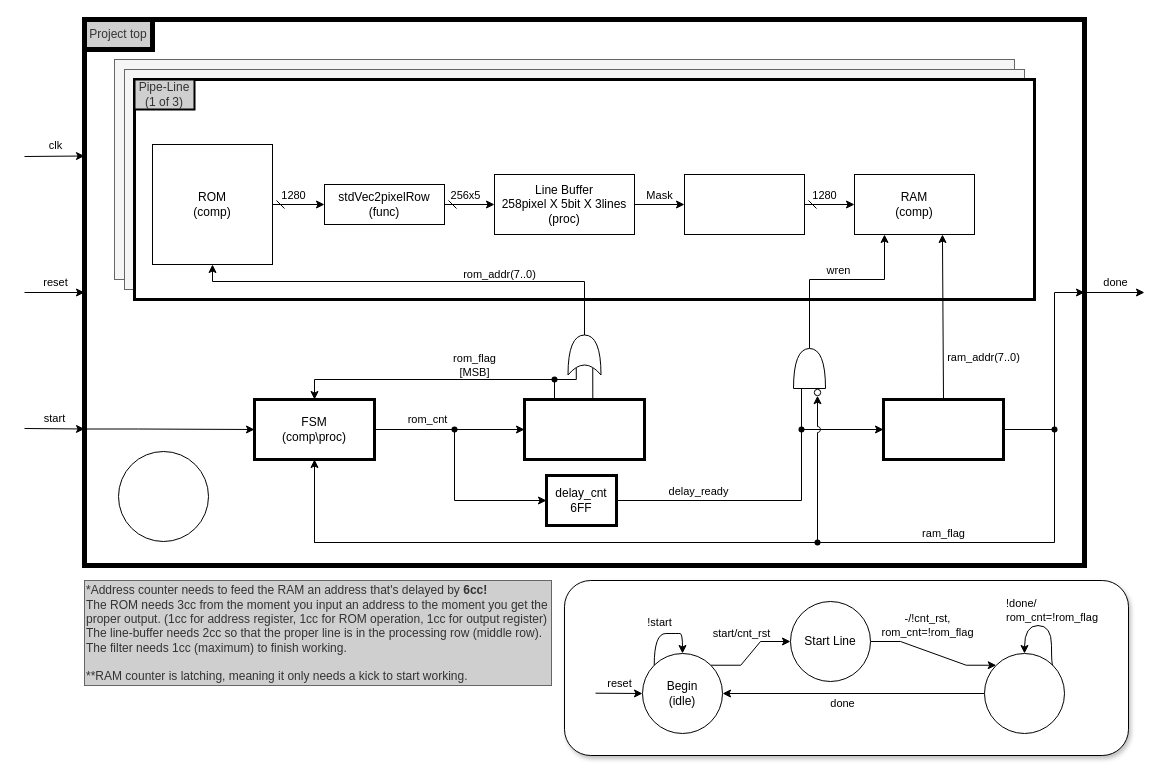
This 1170x780 diagram has some shape labels left out. Each missing label, with the centre of its shape:
"Constants, Types, Functions (package)" goes at pixel 163 496.
"Filter (func)" goes at pixel 744 204.
"RAM Address Counter [9 bits] (proc)" goes at pixel 943 429.
"ROM Address Counter [9 bits] (proc)" goes at pixel 584 429.
"Run" goes at pixel 1024 693.
